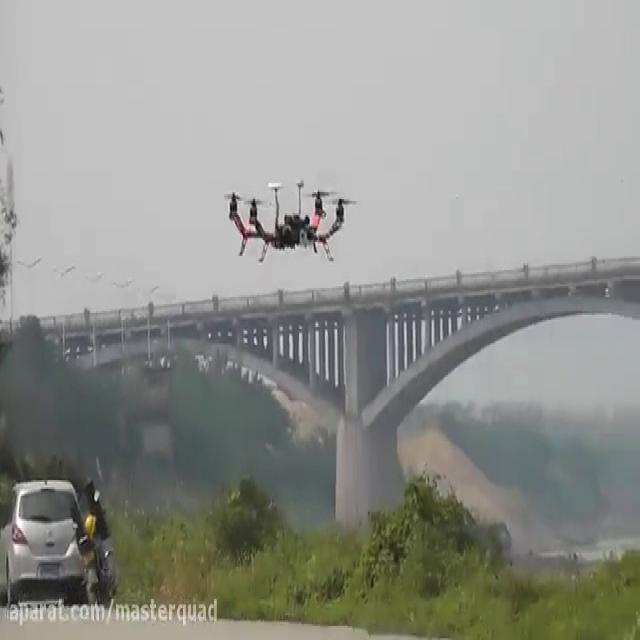drone: (222, 172, 361, 268)
